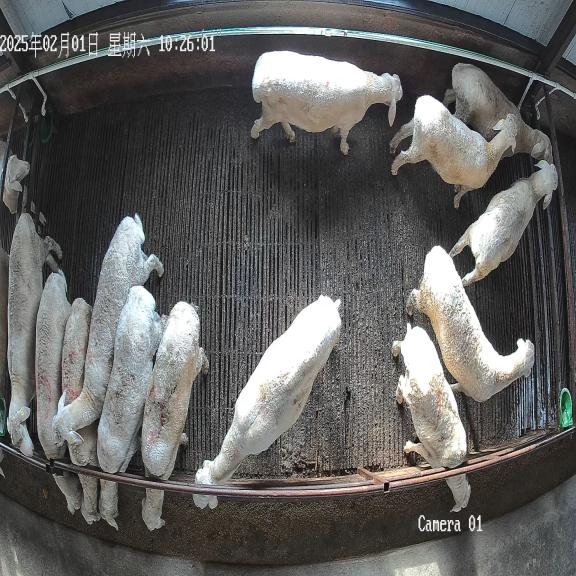eating: (97, 286, 162, 529), (141, 302, 209, 531), (392, 323, 470, 511), (36, 272, 82, 513), (57, 298, 106, 523)
stand: (193, 296, 341, 508), (52, 214, 163, 446), (407, 246, 534, 402), (251, 51, 402, 155), (390, 95, 518, 208), (448, 160, 557, 286), (7, 213, 62, 456), (443, 63, 552, 163)
